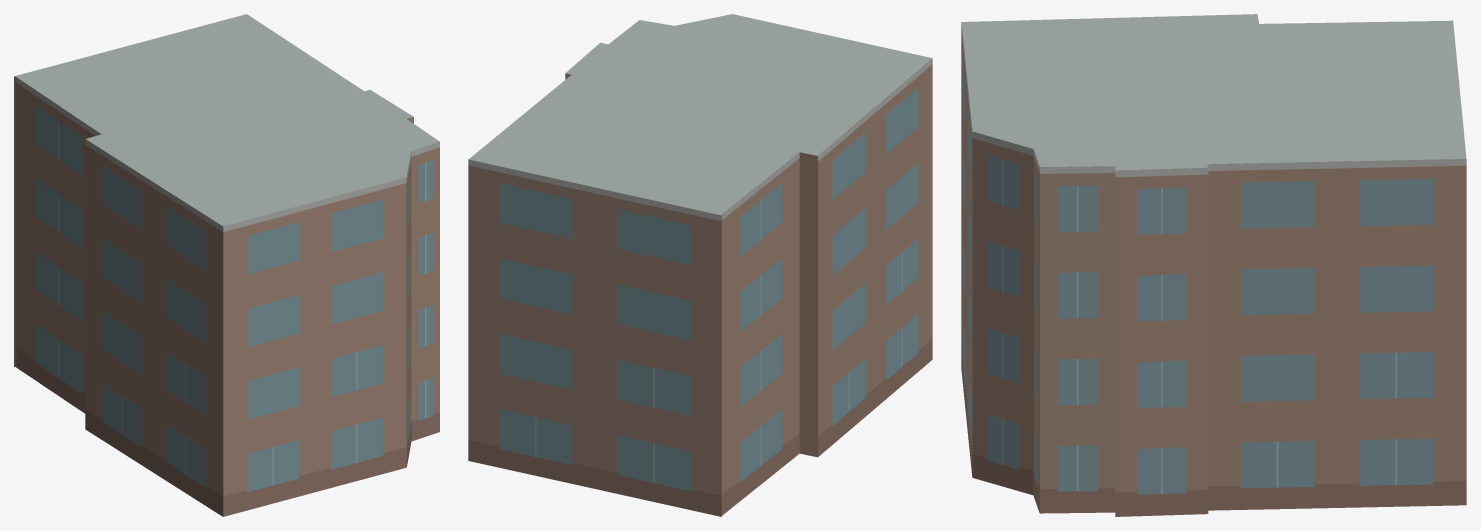
The model's file is survey-upis-32644006.glb.
3 views of the same model, side by side, from view 1: azimuth 30°, elevation 25°; view 2: azimuth 150°, elevation 25°; view 3: azimuth 270°, elevation 25° (orthographic). The views are drawn at different scales.
Parts seen in each view (by area): view 1: survey-upis-32644006.tmp; view 2: survey-upis-32644006.tmp; view 3: survey-upis-32644006.tmp.
Part boxes in pixels (x1=…): survey-upis-32644006.tmp: x1=14, y1=14, x2=439, y2=516; survey-upis-32644006.tmp: x1=468, y1=14, x2=932, y2=516; survey-upis-32644006.tmp: x1=961, y1=14, x2=1466, y2=516.
Bounding box in the file's own units: 11.94 × 12.3 × 16.27.
